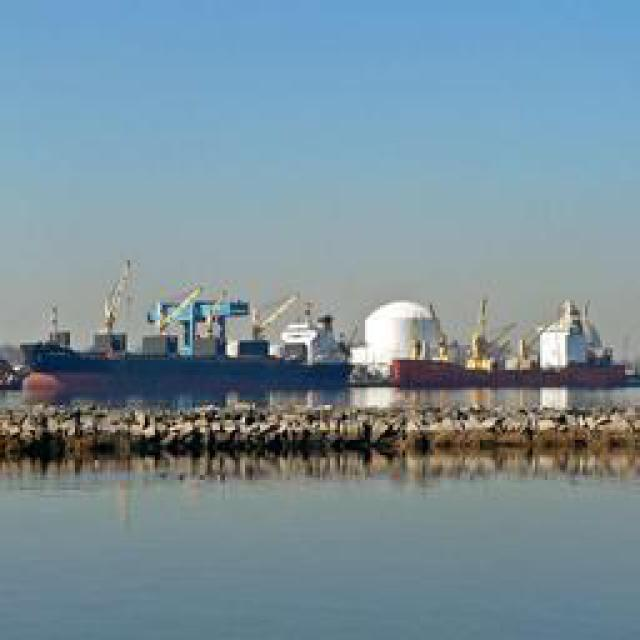Ship: (16, 290, 631, 415)
